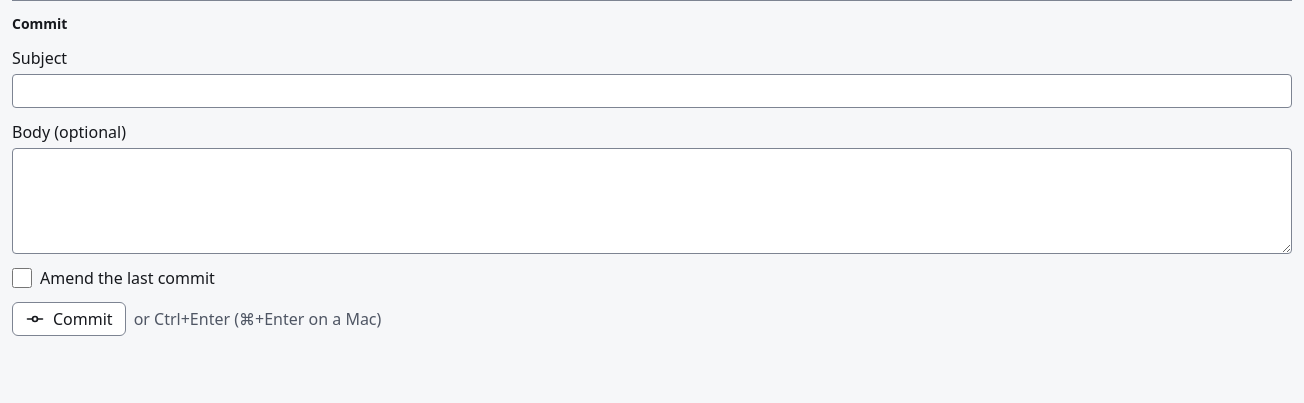
Test: without a subject, nothing is committed and the subject says what it needs
The image size is (1304, 403).
Type "A body alone" into the text box labelled "Body (optional)" at (652, 201), box left=12, top=148, right=1292, bottom=254
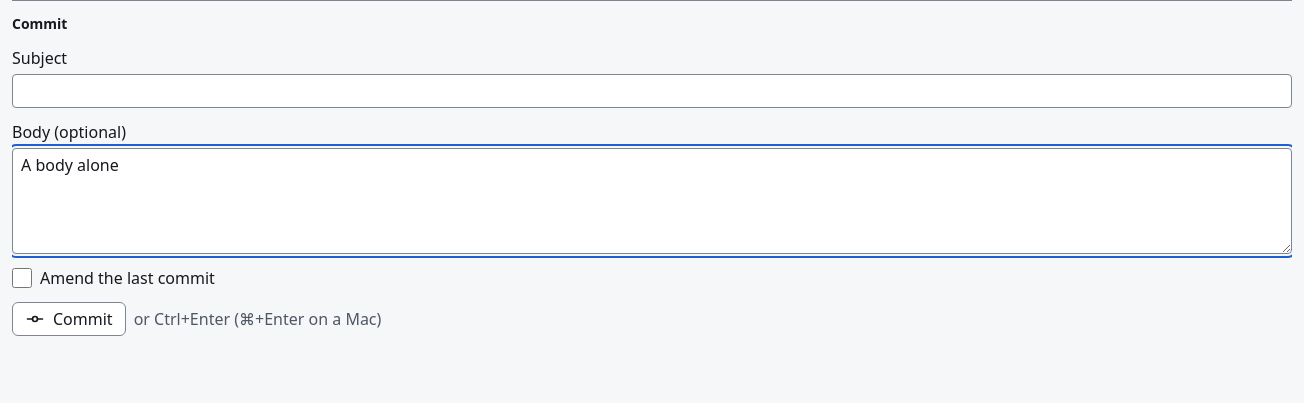
Click the button "Commit" at (69, 319), box left=12, top=302, right=126, bottom=336
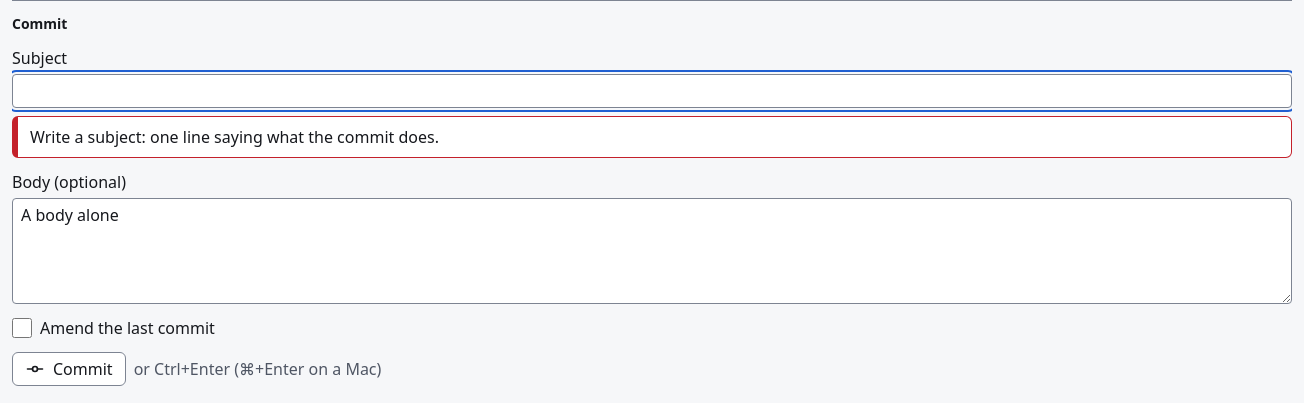
Expected: the message reads "Write a subject: one line saying what the commit does.", left=30, top=126, right=439, bottom=148
